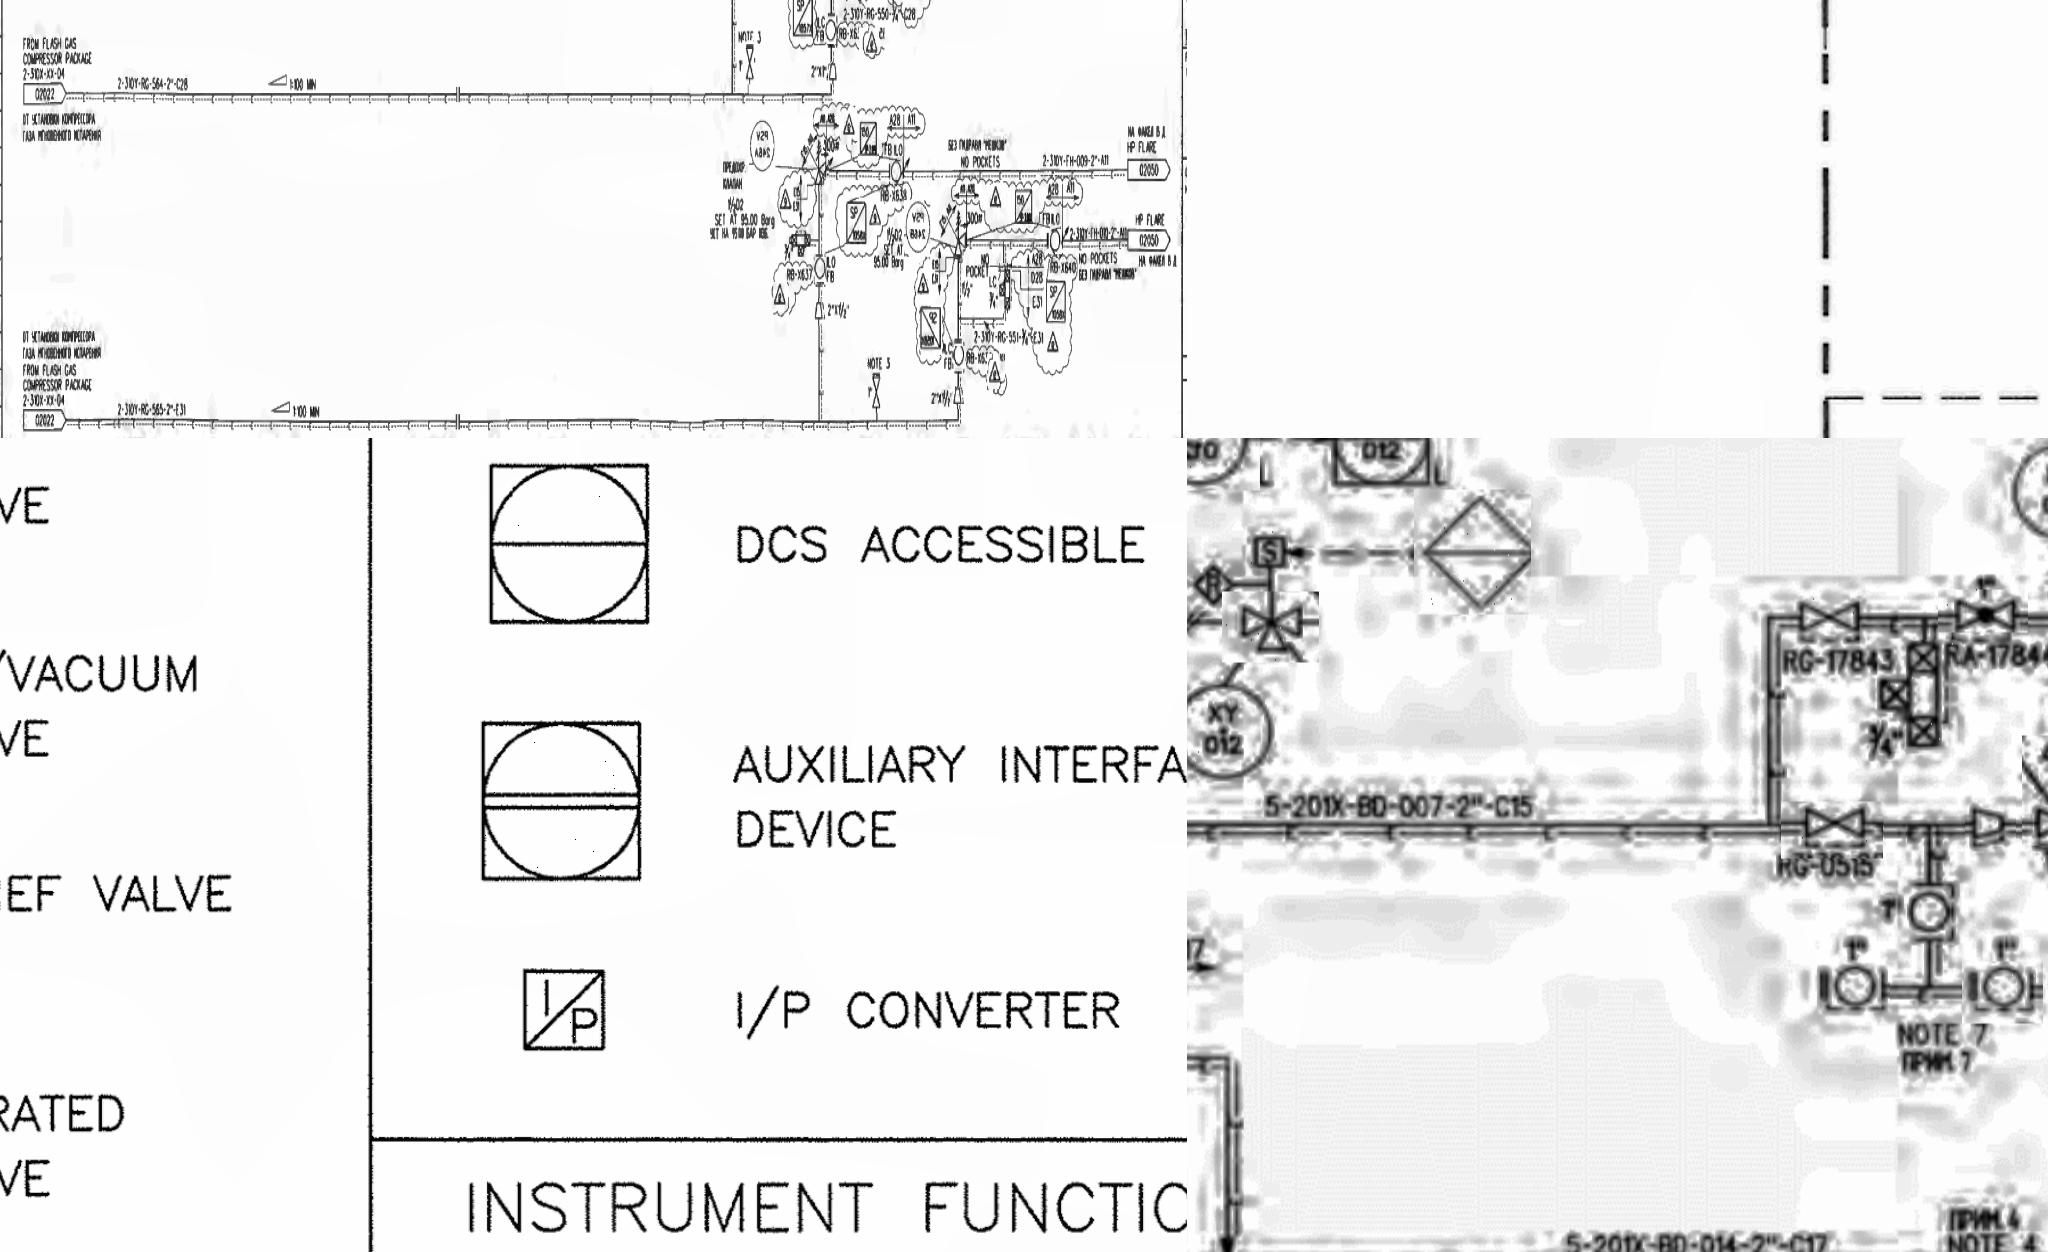2 WAY VALVE: (1878, 641, 1963, 752), (998, 263, 1012, 313), (787, 233, 812, 260)
3 WAY GENERAL VALVE: (1223, 591, 1321, 663)
ANGLE RELIEF VALVE: (952, 205, 967, 266)
ANGLERELIEF VALVE: (813, 142, 829, 193)
AUXILIARY INTERFACE DEVICE: (478, 714, 648, 891)
CONCENTRIC REDUCER: (1966, 797, 2017, 850), (952, 388, 965, 410), (815, 298, 825, 326), (827, 61, 838, 85)
DCS ACCESSIBLE: (480, 458, 654, 630), (1321, 437, 1447, 497)
DIAPHRAGM ACTUATED VALVE: (2022, 736, 2048, 847)
FIELD INSTRUMENT: (1186, 668, 1279, 785), (1963, 961, 2045, 1022), (2000, 439, 2048, 543), (1817, 961, 1890, 1019), (1186, 437, 1260, 490), (1903, 886, 1965, 945), (904, 200, 930, 259), (749, 120, 775, 177), (812, 257, 827, 287), (891, 156, 904, 189), (1049, 225, 1061, 257), (825, 18, 837, 45), (952, 347, 964, 370)
GATE VALVE: (1782, 802, 1886, 860), (1793, 591, 1871, 646), (743, 41, 755, 86), (872, 370, 882, 414)
GLOBE VALVE: (1938, 589, 2028, 633), (2038, 749, 2041, 750)
HARDWIRED INTERLOCK FIELD: (1189, 562, 1233, 608)
HARDWIRED INTERLOCK PRIMARY.: (1415, 490, 1533, 614)
IP CONVERTER: (521, 962, 609, 1053)
REVISION TRIANGLE: (865, 192, 885, 235), (859, 28, 885, 57), (841, 105, 859, 145), (987, 354, 1005, 392), (1044, 331, 1062, 369), (987, 183, 1006, 212), (917, 262, 930, 303), (774, 282, 788, 316)
SPECIAL PIPING ITEM: (919, 306, 944, 357), (844, 199, 869, 249), (1043, 278, 1068, 328), (1012, 183, 1036, 231), (857, 120, 879, 161)
SPEED FLOW METER: (1245, 525, 1292, 578)
